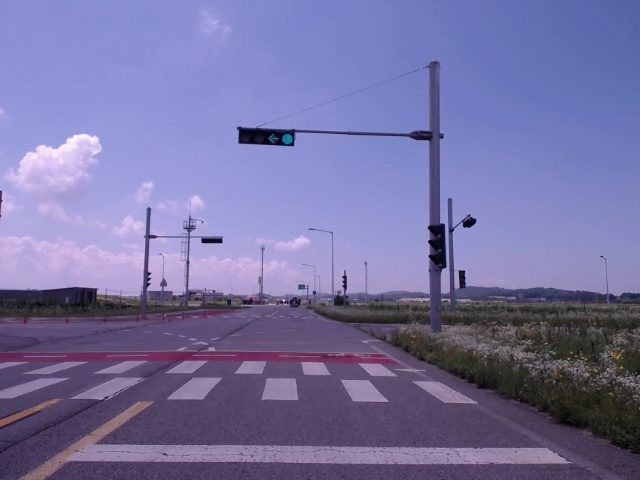all_green_4: (234, 127, 295, 149)
